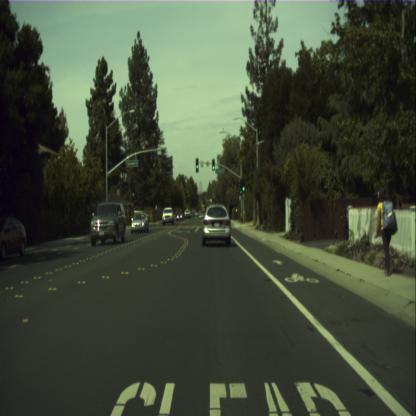Green: (242, 179, 245, 190), (196, 158, 198, 172), (212, 159, 214, 169), (132, 186, 134, 196)
